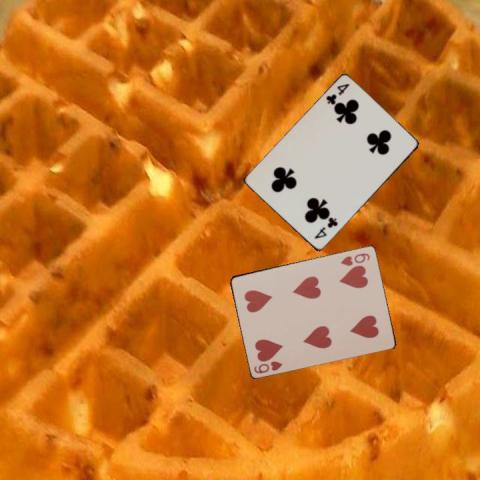4c: (312, 214, 340, 240), (322, 80, 350, 106)
6h: (338, 250, 371, 267), (251, 358, 284, 375)
